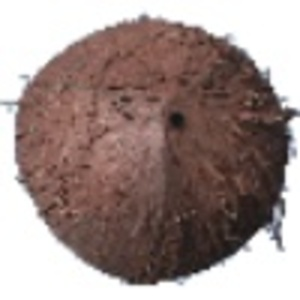coco: (1, 16, 300, 287)
